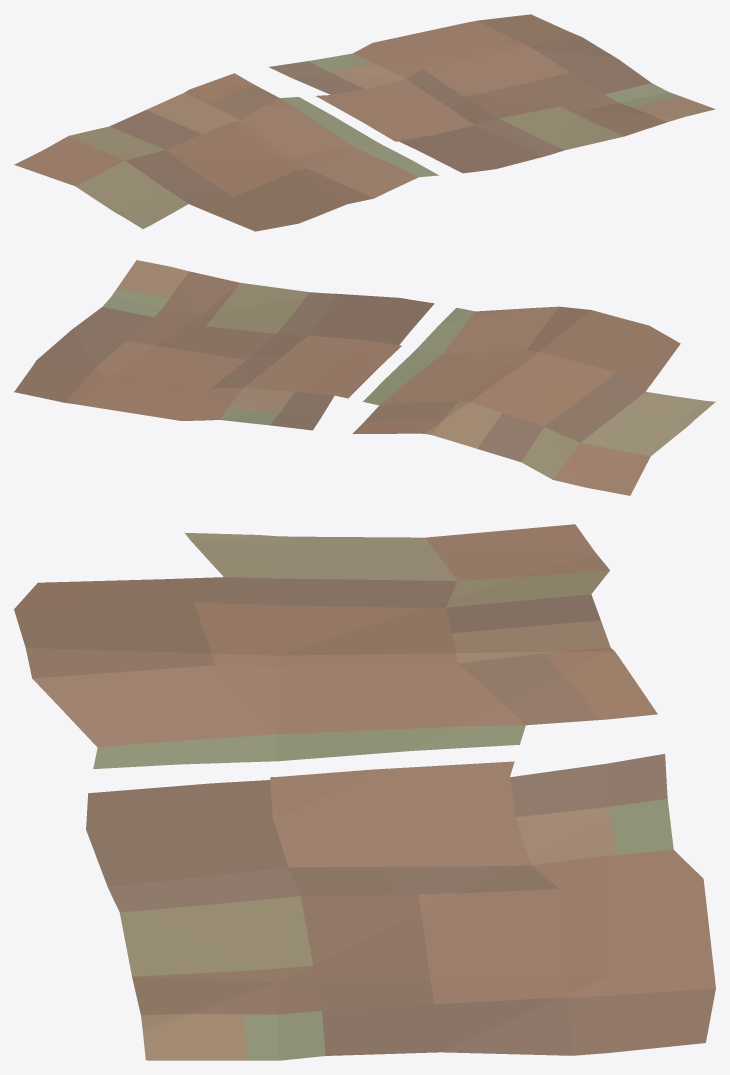
The model's file is farm_-12_-19_soil.glb.
The picture shows the model from 3 angles, top to bottom: view 1: azimuth 30°, elevation 25°; view 2: azimuth 150°, elevation 25°; view 3: azimuth 270°, elevation 25°; orthographic projection. The views are drawn at different scales.
Parts seen in each view (by area): view 1: geometry_0; view 2: geometry_0; view 3: geometry_0.
Part boxes in pixels (box(x1,y1,x2,y2)): geometry_0: box(14, 14, 715, 231); geometry_0: box(14, 260, 715, 495); geometry_0: box(14, 524, 715, 1060).
Bounding box in the file's own units: 306 × 16.94 × 171.
